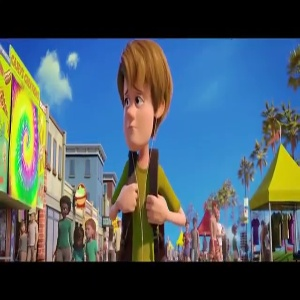Shagy: (117, 38, 176, 155)
